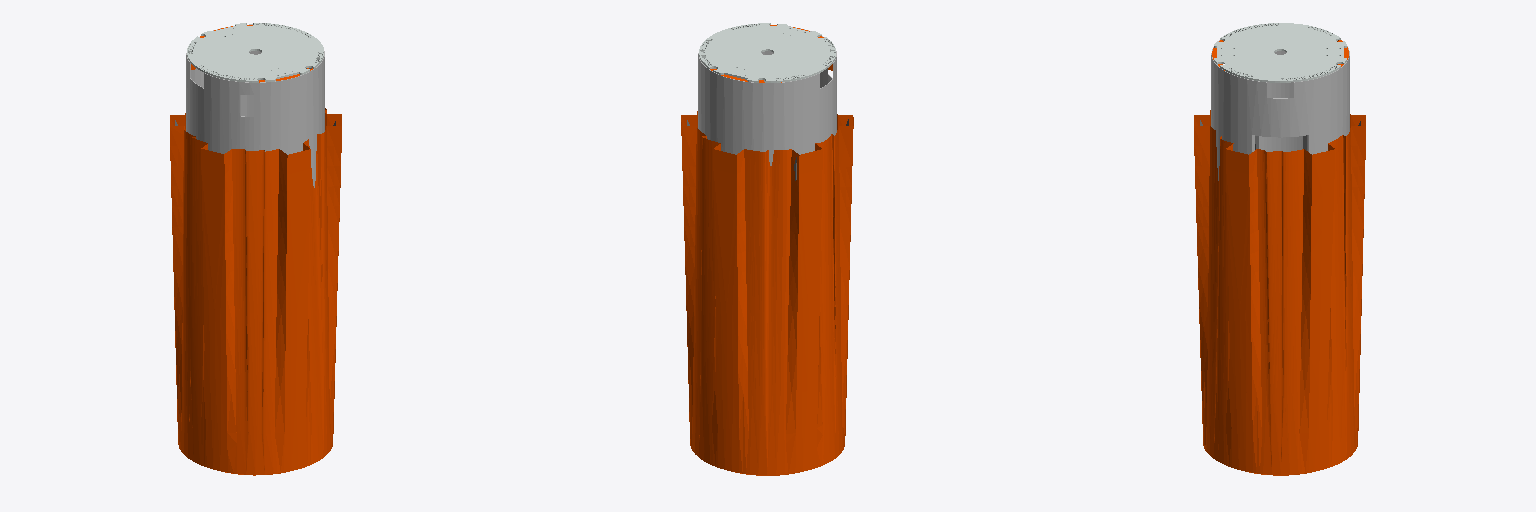
The model's file is Probe_Stowed.obj.
The picture shows the model from 3 angles: view 1: azimuth 30°, elevation 25°; view 2: azimuth 150°, elevation 25°; view 3: azimuth 270°, elevation 25°; orthographic projection.
Parts seen in each view (by area): view 1: Solid1:36, Solid1:3, Solid1:7, Solid1:6, Solid1:1; view 2: Solid1:36, Solid1:1, Solid1:6, Solid1:7, Solid1:3; view 3: Solid1:36, Solid1:3, Solid1:1, Solid1:6, Solid1:7.
Part boxes in pixels (bbox=[...]): Solid1:36: bbox=[170, 108, 341, 474]; Solid1:3: bbox=[196, 51, 324, 187]; Solid1:7: bbox=[196, 37, 323, 82]; Solid1:6: bbox=[187, 23, 313, 67]; Solid1:1: bbox=[186, 24, 311, 135]; Solid1:36: bbox=[681, 111, 853, 474]; Solid1:1: bbox=[698, 53, 827, 165]; Solid1:6: bbox=[699, 38, 826, 82]; Solid1:7: bbox=[709, 23, 835, 67]; Solid1:3: bbox=[712, 26, 836, 137]; Solid1:36: bbox=[1194, 110, 1365, 474]; Solid1:3: bbox=[1211, 40, 1280, 180]; Solid1:1: bbox=[1281, 46, 1349, 154]; Solid1:6: bbox=[1280, 23, 1346, 82]; Solid1:7: bbox=[1214, 23, 1280, 82].
Bounding box in the file's own units: 95.14 × 262 × 101.